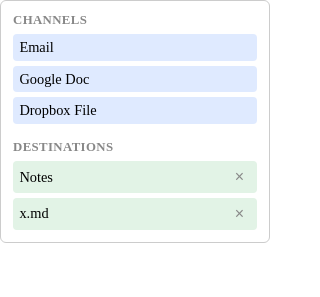
it: DestinationsPanel › clicking a channel opens DestinationForm for it; saving inserts the new destination
Expected: the button "Notes" is shown, [19, 169, 222, 186]
Click the button "Email" at (135, 48), box [19, 39, 251, 56]
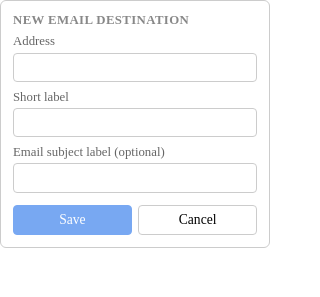
Expected: the heading "New Email destination" is shown, [13, 13, 189, 27]
Expected: the button "Google Doc" is gone
Type "to@example.com" into the field labelled "Address" at (135, 67), box [13, 53, 257, 82]
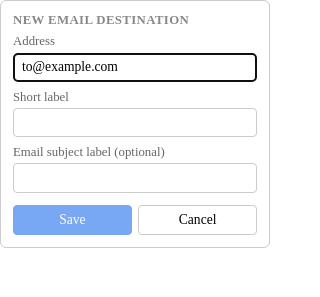
Type "Weekly Notes" into the field labelled "Short label" at (135, 123), box [13, 108, 257, 137]
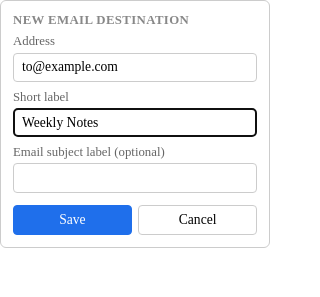
Click the button "Save" at (72, 220), box [13, 205, 132, 234]
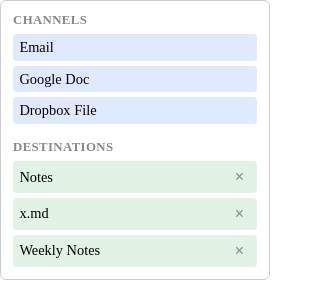
Expected: the heading "New Email destination" is gone
Expected: the heading "Channels" is shown, [13, 13, 87, 27]
Expected: the button "Weekly Notes" is shown, [19, 242, 222, 259]
